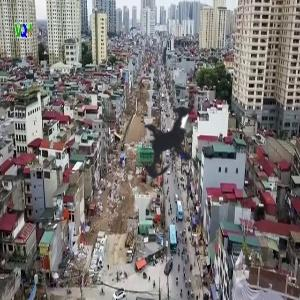drone: (97, 61, 257, 221)
